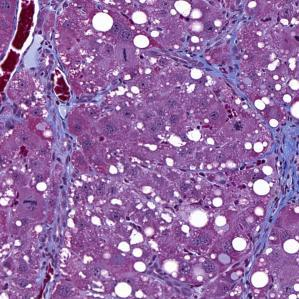fibrosis: (24, 48, 82, 260), (254, 117, 299, 245), (173, 29, 247, 92)
